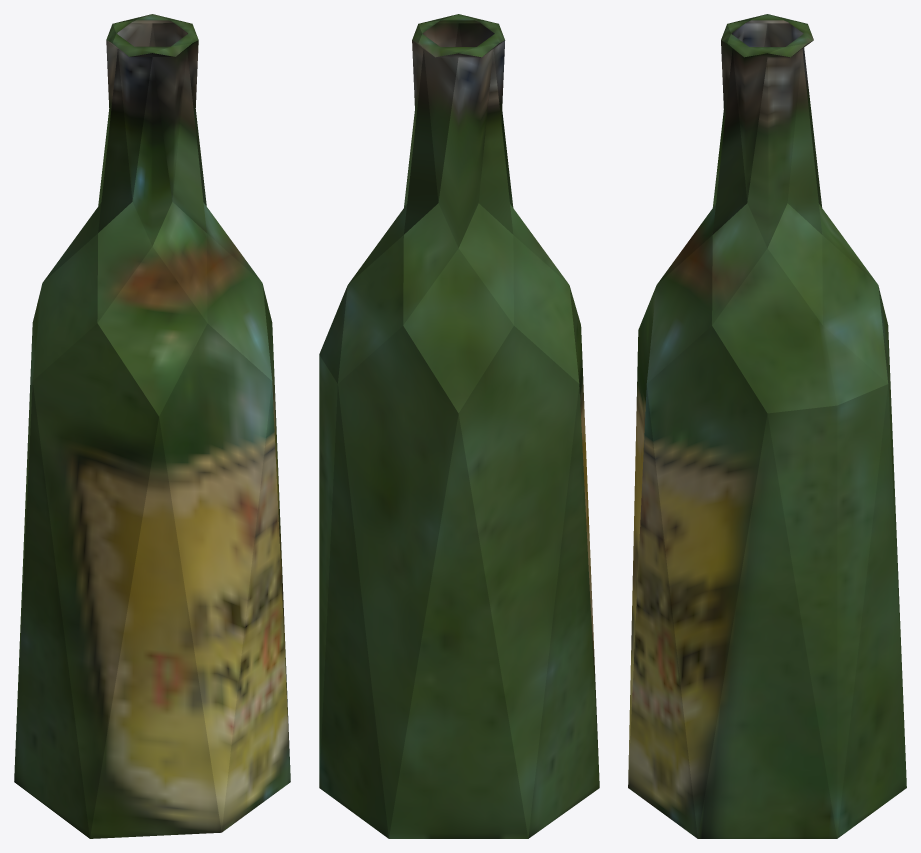
Rendered from BottleGlass.fbx.
The picture shows the model from 3 angles, left to right: view 1: azimuth 30°, elevation 25°; view 2: azimuth 150°, elevation 25°; view 3: azimuth 270°, elevation 25°; orthographic projection.
Parts seen in each view (by area): view 1: Plane.002; view 2: Plane.002; view 3: Plane.002.
Boxes of the visible parts, x1=… form: Plane.002: x1=14, y1=14, x2=290, y2=838; Plane.002: x1=319, y1=14, x2=599, y2=838; Plane.002: x1=628, y1=14, x2=906, y2=838.
Size of the model in its own units: 10 by 30 by 10.
Materials: 1 (1 with a texture image).
